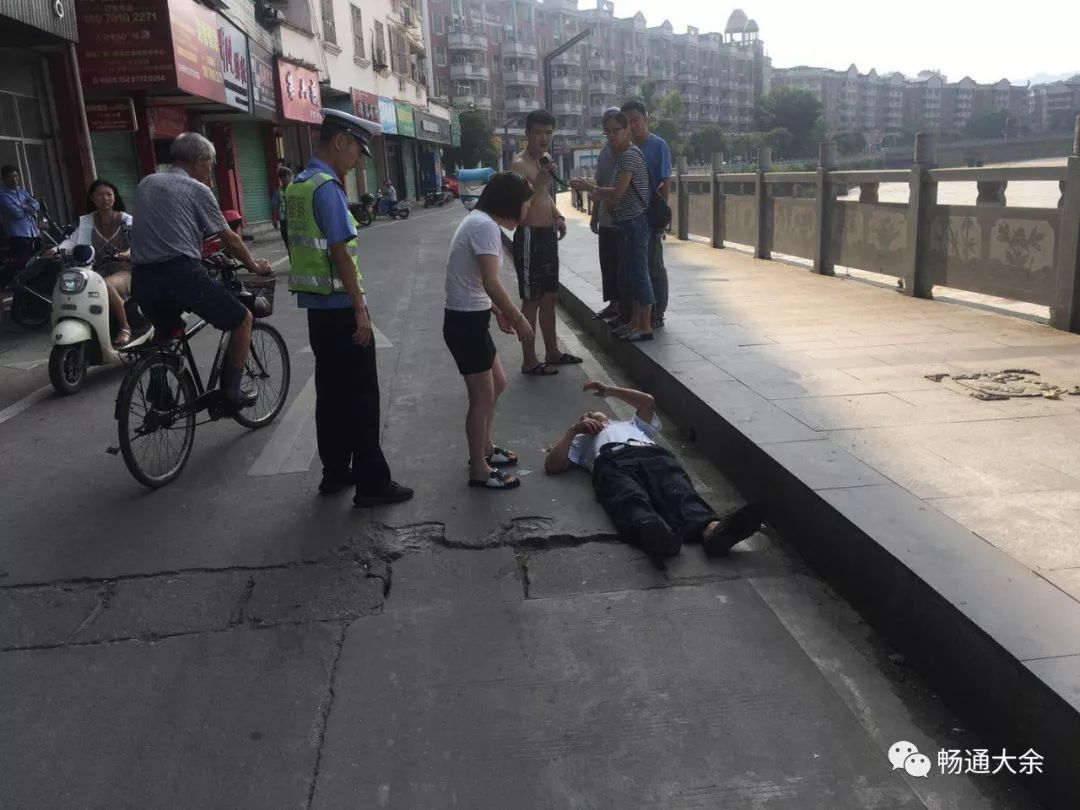falling: (544, 378, 795, 599)
sitting: (138, 126, 257, 450)
standing: (289, 96, 439, 544), (444, 164, 541, 527), (514, 100, 578, 380), (604, 101, 669, 355)
